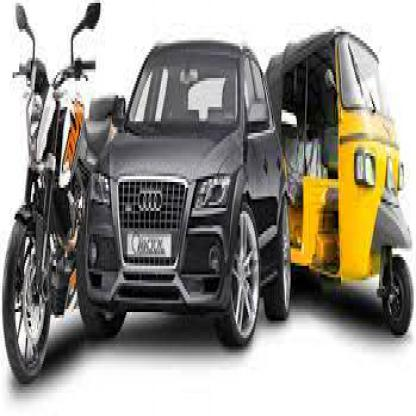bike: (4, 3, 113, 364)
jeep: (82, 29, 296, 349)
tuk: (268, 40, 411, 338)
